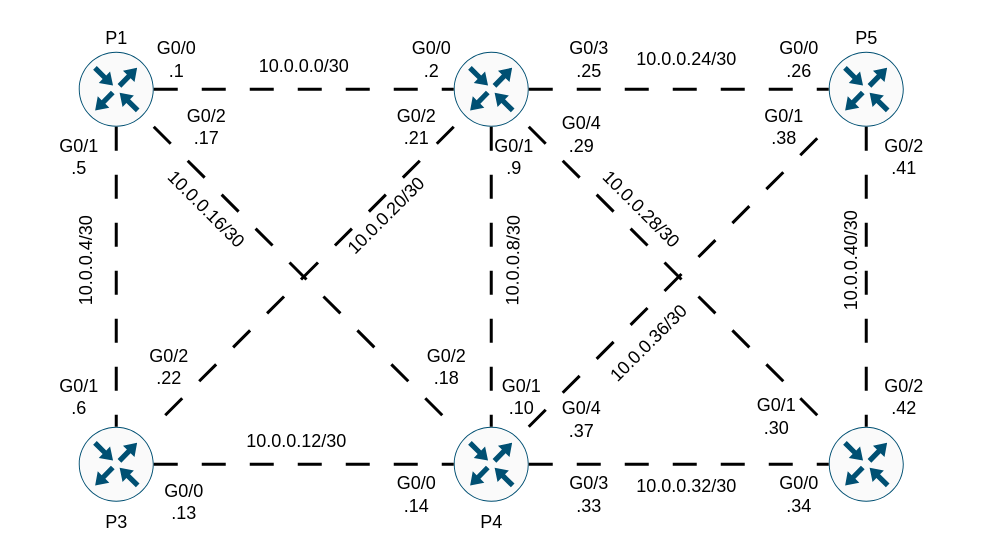
Image size: 981x558. Some labels were removed from this diagram. The shapes that lost their labels are listed below. From the top down, each one's centre as x and y in pixels, then its label:
At point 490,88: "P2".
At point 865,463: "P6".
